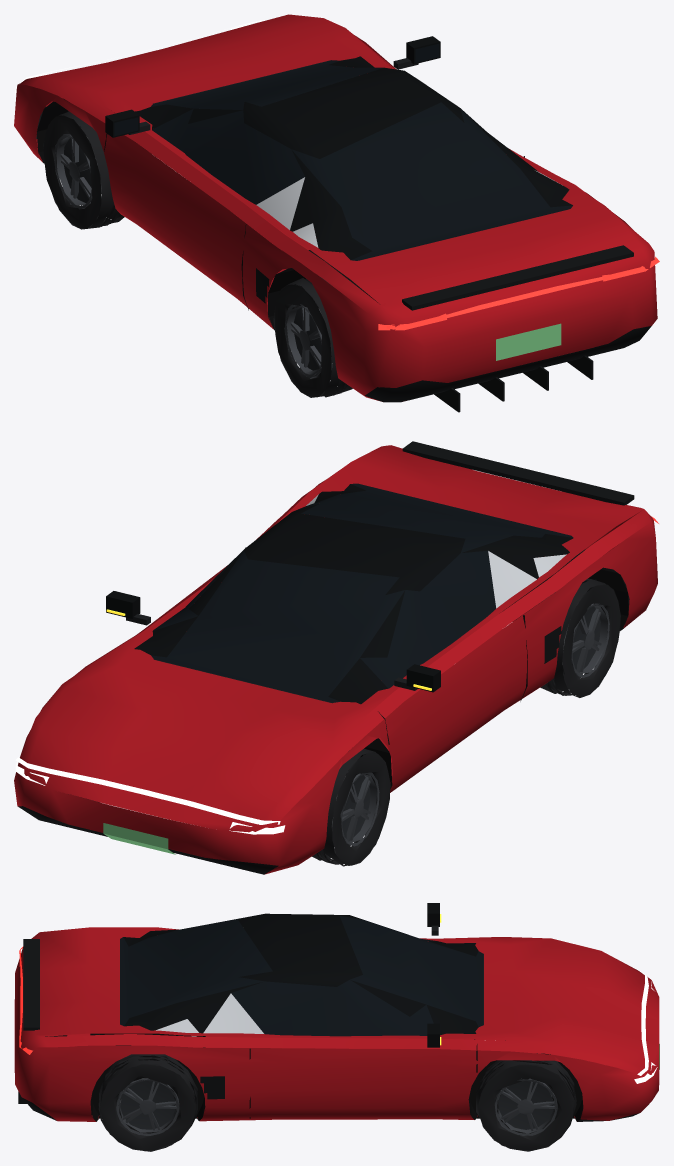
The model's file is gz_sports_lod2.glb.
3 renders of one model, top to bottom at view 1: azimuth 30°, elevation 25°; view 2: azimuth 150°, elevation 25°; view 3: azimuth 270°, elevation 25°, orthographic. The views are drawn at different scales.
Parts seen in each view (by area): view 1: vehicle_lod2; view 2: vehicle_lod2; view 3: vehicle_lod2.
Boxes of the visible parts, x1,y1,x2,y2 form: vehicle_lod2: (14,14,659,412); vehicle_lod2: (14,441,658,874); vehicle_lod2: (14,903,659,1151).
Bounding box in the file's own units: 2.22 × 1.2 × 4.61.
